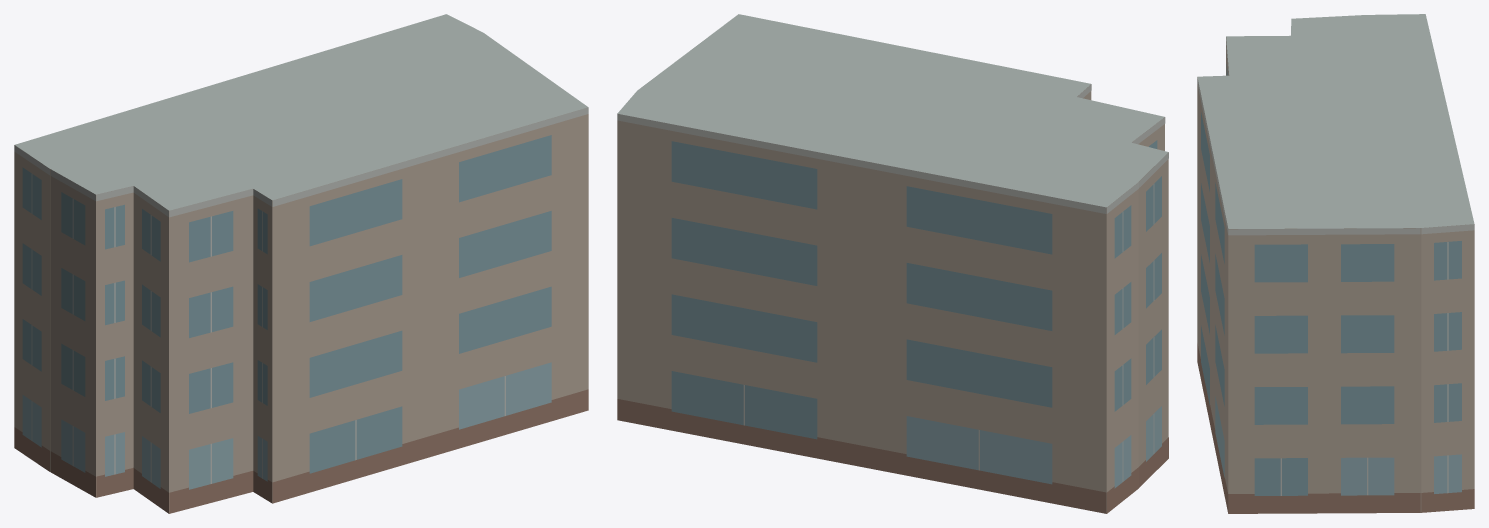
File: survey-upis-32495547.glb
3 renders of one model, left to right at view 1: azimuth 30°, elevation 25°; view 2: azimuth 150°, elevation 25°; view 3: azimuth 270°, elevation 25°, orthographic. The views are drawn at different scales.
Parts seen in each view (by area): view 1: survey-upis-32495547.tmp; view 2: survey-upis-32495547.tmp; view 3: survey-upis-32495547.tmp.
Part boxes in pixels (bbox=[...]): survey-upis-32495547.tmp: bbox=[14, 14, 588, 513]; survey-upis-32495547.tmp: bbox=[617, 14, 1168, 513]; survey-upis-32495547.tmp: bbox=[1197, 14, 1474, 513].
Bounding box in the file's own units: 17.99 × 11.1 × 9.8.
